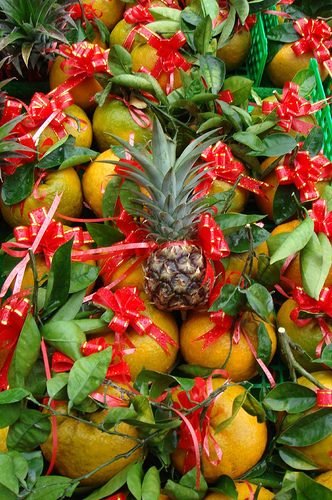pineapple: (92, 117, 225, 318)
